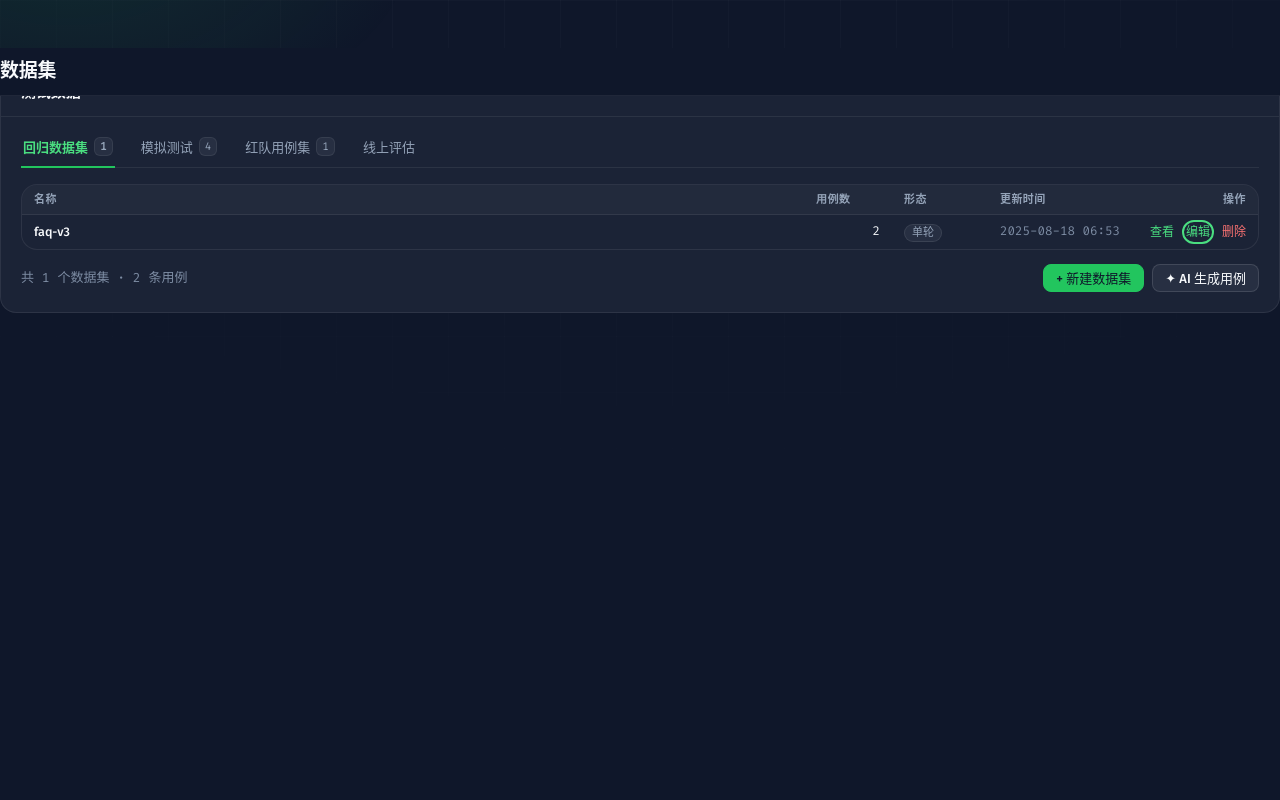
Scenario: 数据集表单抽屉 › 编辑：抽屉头带身份行（数据集名）+ 来源行高亮，关抽屉后高亮消失且焦点还原
Click the button with test id "dataset-row-faq-v3-edit".
click(1198, 232)  # box [1186,224,1210,240]
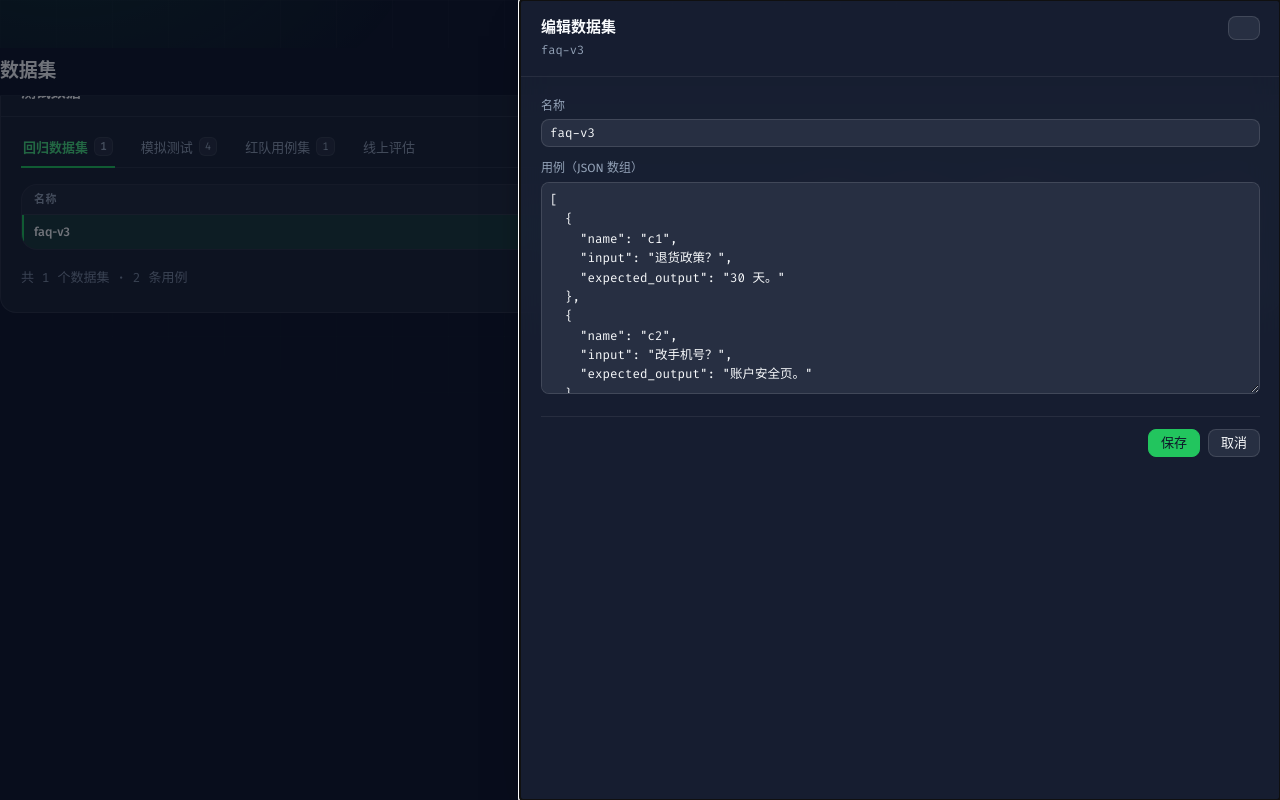
Check: the text with test id "dataset-form-drawer-identity" reads "faq-v3", box [541,42,584,58]
Check: the field with test id "dataset-form-name" is disabled, box [541,119,1260,147]
Click the button with test id "dataset-form-drawer-close".
click(1244, 28)  # box [1228,16,1260,40]
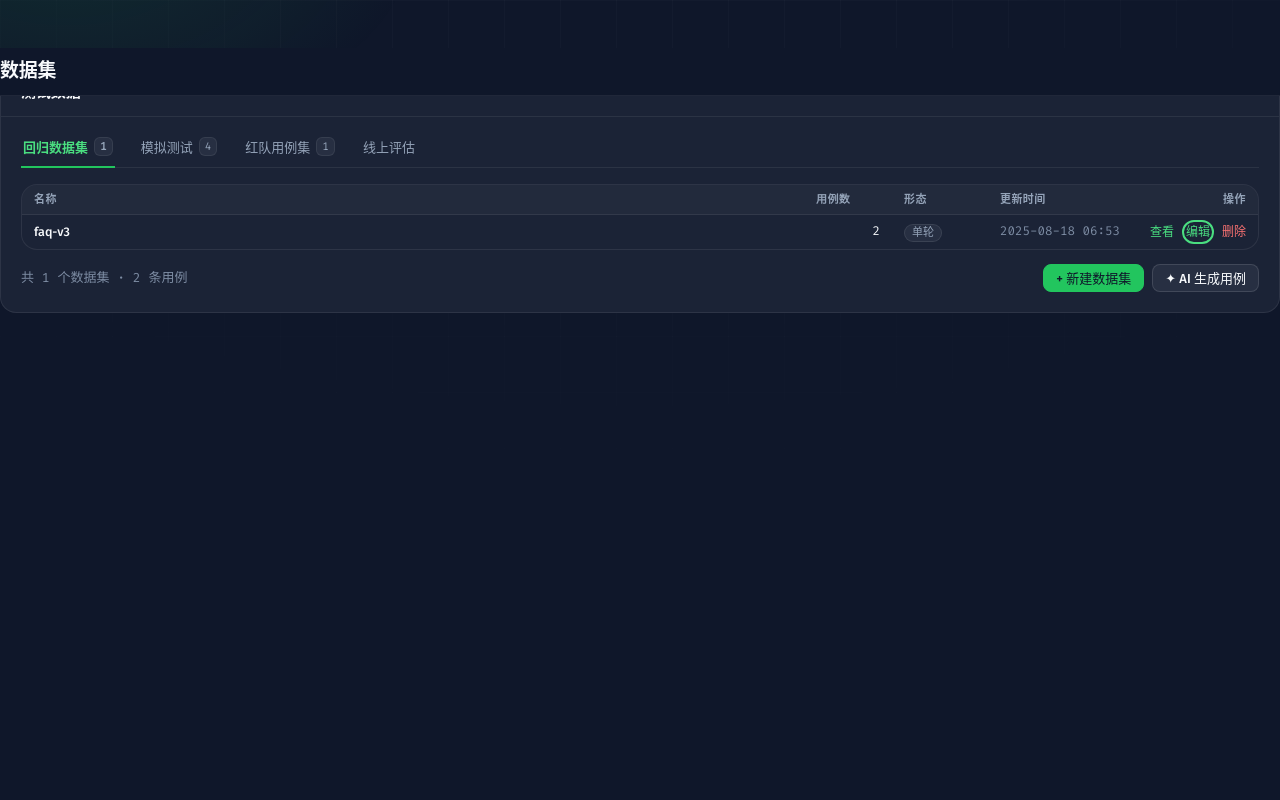
Check: the element with test id "dataset-form" is gone
